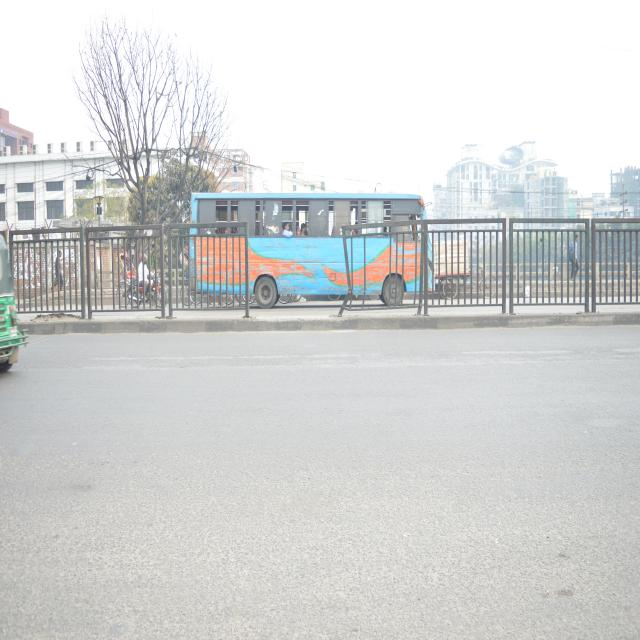bus: (185, 176, 439, 314)
